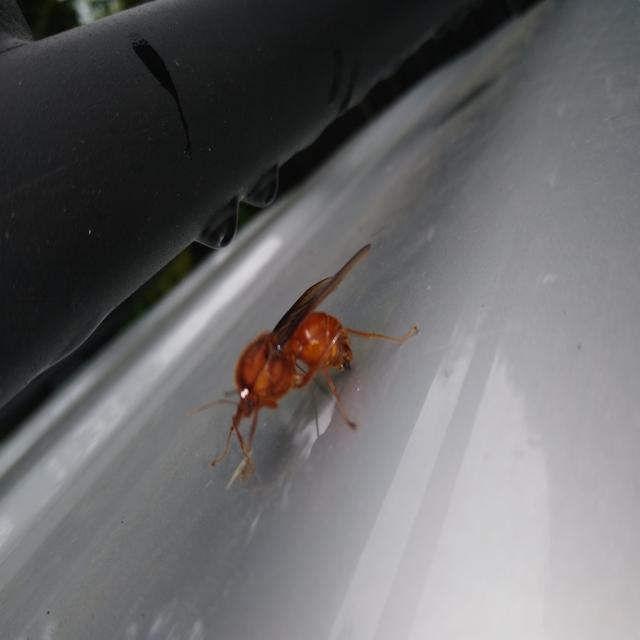Alive-Male-Alate: (188, 243, 418, 483)
